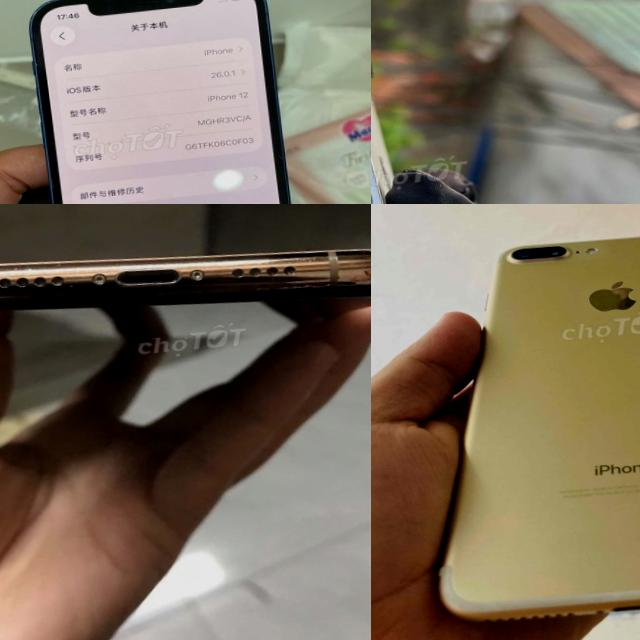scratch: (0, 229, 342, 330), (436, 592, 476, 616)
